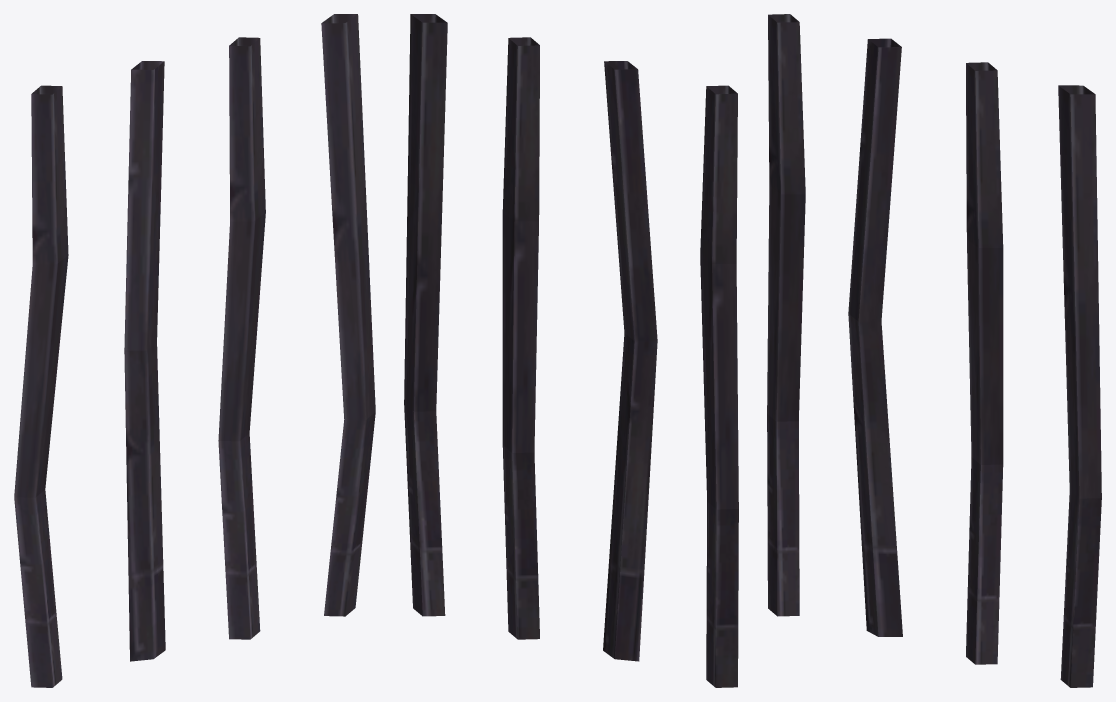
The model's file is lava_bars_01.fbx.
The picture shows the model from 3 angles, left to right: view 1: azimuth 30°, elevation 25°; view 2: azimuth 150°, elevation 25°; view 3: azimuth 330°, elevation 25°; orthographic projection.
Parts seen in each view (by area): view 1: obj0.049; view 2: obj0.049; view 3: obj0.049.
Part boxes in pixels (bbox=[...]): obj0.049: bbox=[14, 14, 375, 687]; obj0.049: bbox=[404, 14, 738, 687]; obj0.049: bbox=[767, 14, 1101, 687].
Bounding box in the file's own units: 3.39 × 5.51 × 0.4481.
